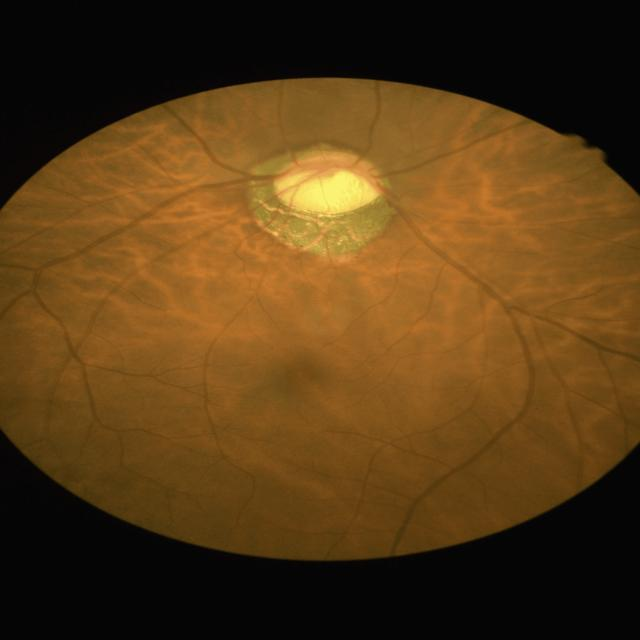cup: (274, 158, 378, 211)
disk: (269, 140, 383, 212)
